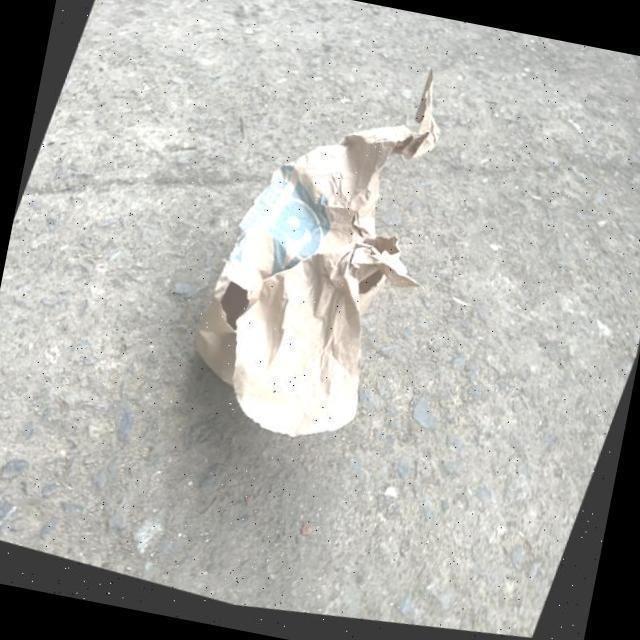Paper_Bag: (165, 16, 496, 486)
